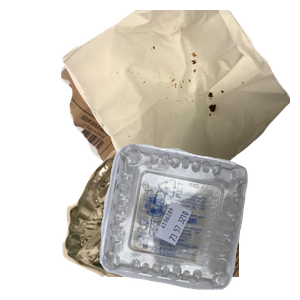cardboard: (58, 31, 222, 188)
glass: (60, 120, 300, 300)
plastic: (97, 141, 300, 300)
trash: (60, 10, 300, 190)
